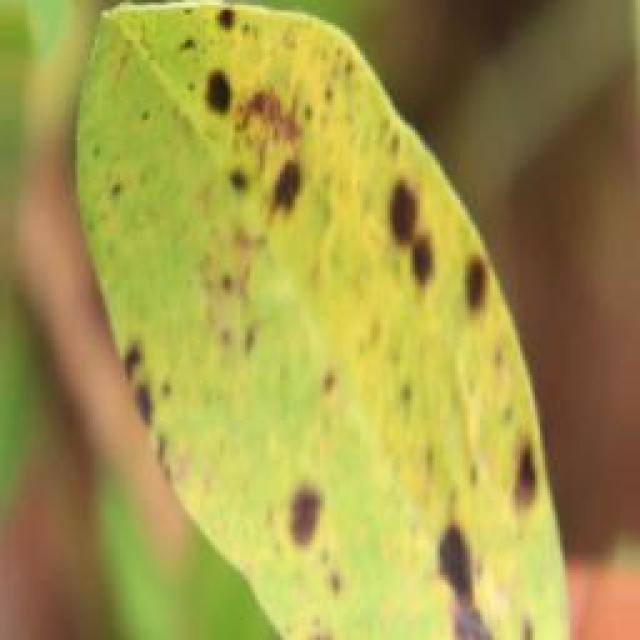Yellowish: (53, 0, 527, 640)
